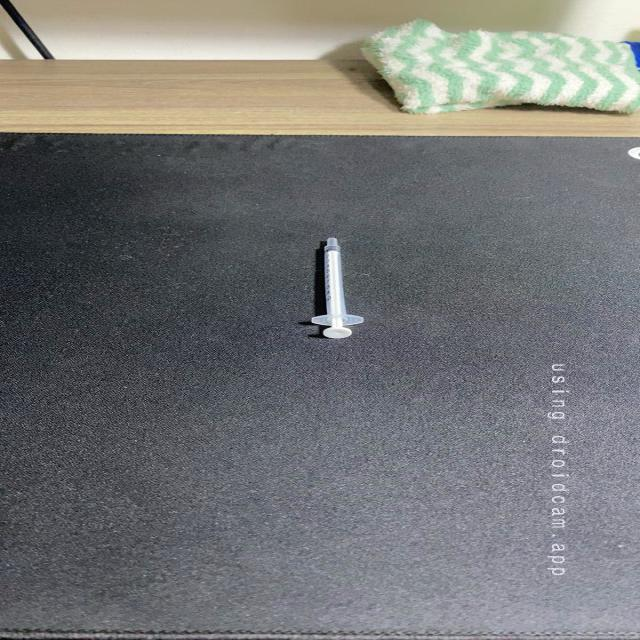syringe: (298, 231, 372, 342)
